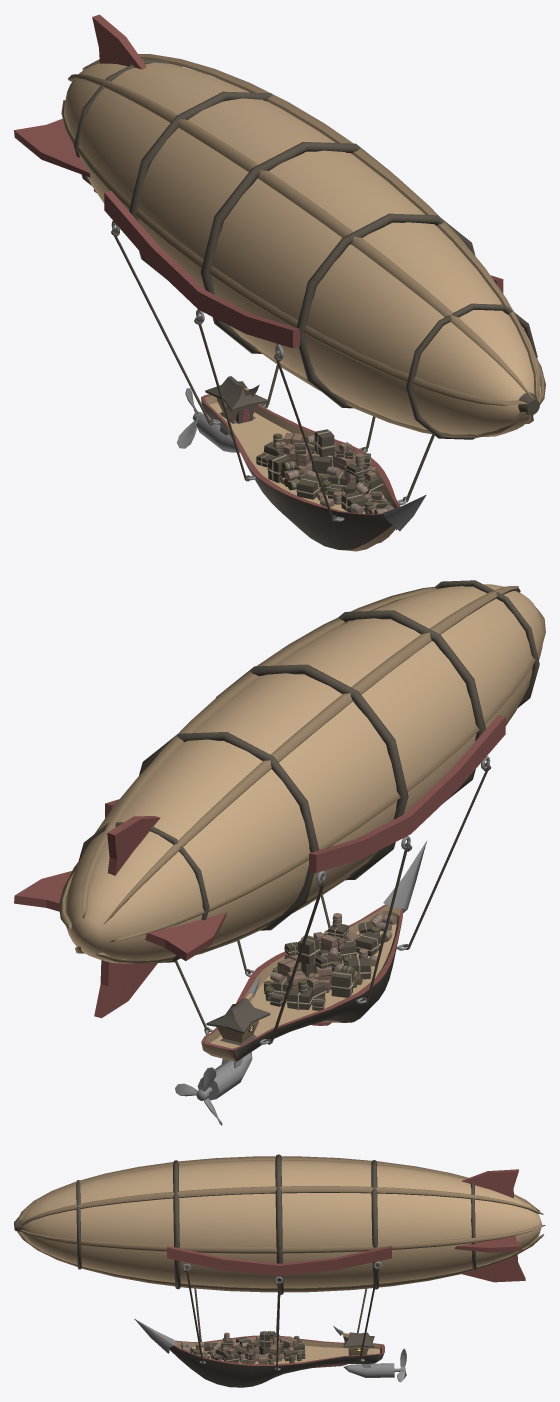
File: asset.glb
3 views of the same model, one above another, from view 1: azimuth 30°, elevation 25°; view 2: azimuth 150°, elevation 25°; view 3: azimuth 270°, elevation 25° (orthographic). The views are drawn at different scales.
Parts seen in each view (by area): view 1: polySurface253, polySurface85, pTorus21, polySurface259, polySurface260, polySurface258, pTorus3, pTorus1, polySurface252, pTorus2, pTorus4, polySurface251 (+6 smaller); view 2: polySurface253, pTorus21, polySurface85, polySurface259, polySurface260, polySurface258, pTorus3, pTorus2, pTorus1, polySurface249, polySurface252, polySurface269 (+8 smaller); view 3: polySurface253, polySurface85, polySurface263, polySurface260, polySurface255, polySurface259, polySurface256, polySurface249, polySurface251, polySurface269, pTorus3, pTorus1 (+7 smaller).
Part boxes in pixels (x1,y1,x2,y2): polySurface253: (65, 59, 540, 436); polySurface85: (201, 394, 400, 551); pTorus21: (104, 191, 344, 521); polySurface259: (68, 74, 532, 397); polySurface260: (82, 54, 538, 400); polySurface258: (61, 100, 526, 405); pTorus3: (200, 142, 391, 353); pTorus1: (296, 213, 475, 408); polySurface252: (14, 118, 90, 177); pTorus2: (129, 91, 272, 278); pTorus4: (406, 303, 537, 439); polySurface251: (92, 14, 146, 69); polySurface253: (65, 584, 542, 963); pTorus21: (259, 715, 505, 1044); polySurface85: (201, 904, 402, 1061); polySurface259: (103, 586, 520, 924); polySurface260: (82, 587, 436, 918); polySurface258: (110, 608, 545, 942); pTorus3: (216, 664, 408, 880); pTorus2: (139, 732, 318, 930); pTorus1: (338, 610, 485, 802); polySurface249: (94, 960, 157, 1018); polySurface252: (145, 912, 226, 960); polySurface269: (175, 1052, 252, 1125); polySurface253: (22, 1160, 542, 1288); polySurface85: (169, 1335, 384, 1387); polySurface263: (167, 1245, 391, 1370); polySurface260: (18, 1186, 543, 1226); polySurface255: (18, 1225, 545, 1253); polySurface259: (16, 1156, 539, 1221); polySurface256: (16, 1231, 543, 1292); polySurface249: (462, 1255, 525, 1282); polySurface251: (462, 1169, 518, 1198); polySurface269: (343, 1348, 406, 1382); pTorus3: (275, 1154, 283, 1294); pTorus1: (173, 1160, 180, 1289).
Size of the model in its own units: 55.14 by 92.6 by 198.
